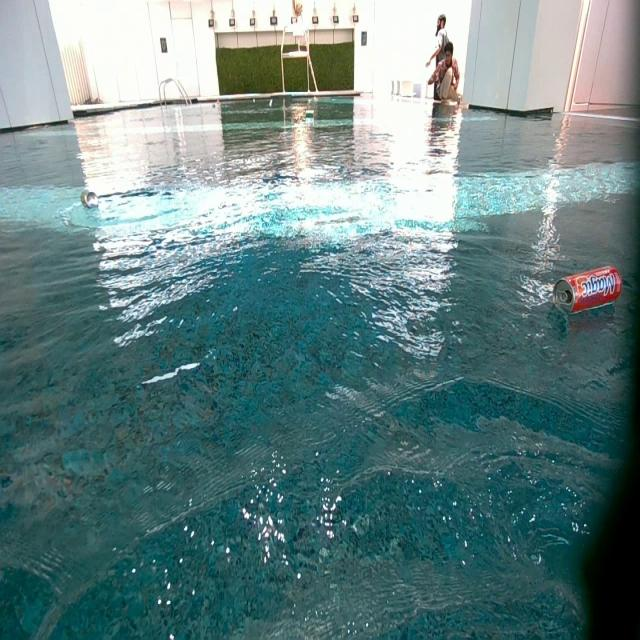Cans: (552, 266, 626, 315), (80, 188, 98, 207), (306, 106, 314, 118), (268, 99, 274, 107), (252, 100, 256, 104), (217, 100, 220, 105), (212, 105, 216, 108)
